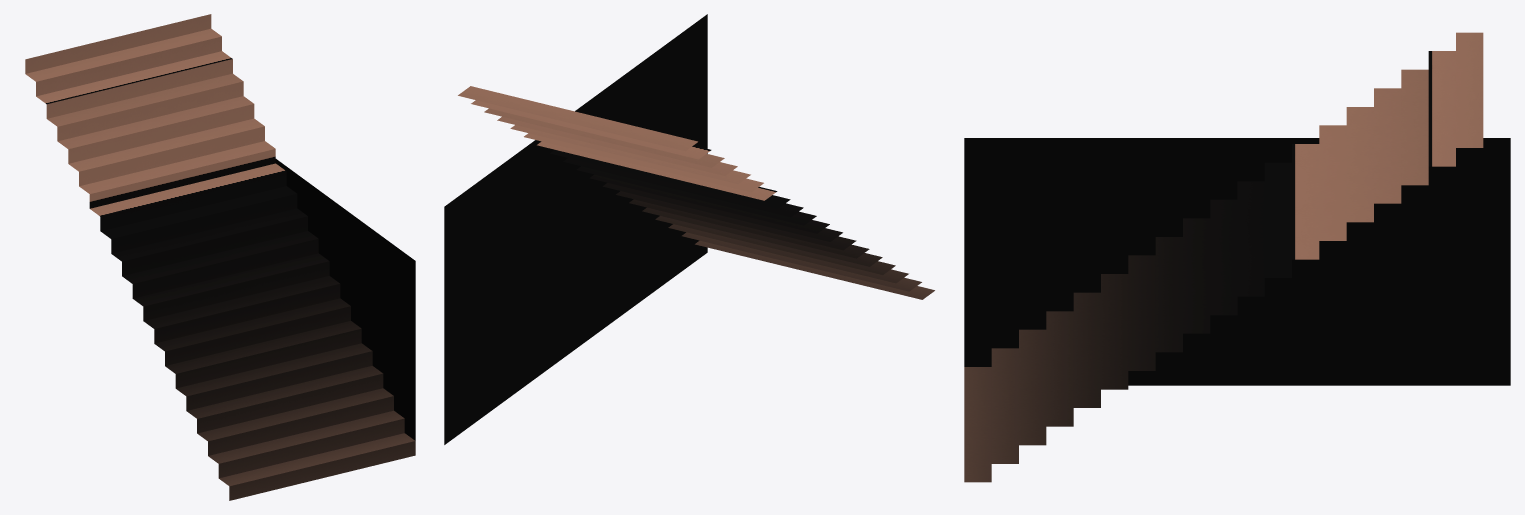
Rendered from StairsUp.glb.
3 renders of one model, left to right at view 1: azimuth 30°, elevation 25°; view 2: azimuth 150°, elevation 25°; view 3: azimuth 270°, elevation 25°, orthographic. The views are drawn at different scales.
Parts seen in each view (by area): view 1: Stairs; view 2: Stairs; view 3: Stairs.
Part boxes in pixels (<box>): Stairs: <box>25,14,415,500</box>; Stairs: <box>444,14,934,444</box>; Stairs: <box>964,32,1510,482</box>.
Bounding box in the file's own units: 1 × 1.5 × 2.
Materials: 2 (1 with a texture image).
